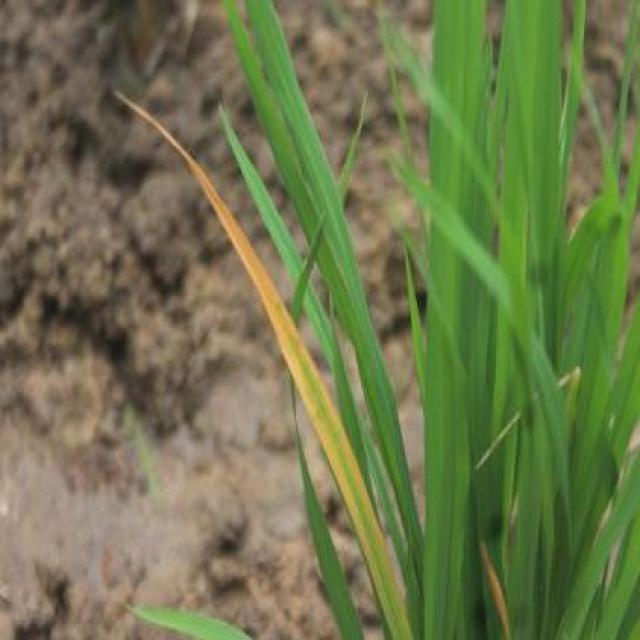Rice Tungro: (164, 124, 230, 243), (243, 225, 276, 337)
